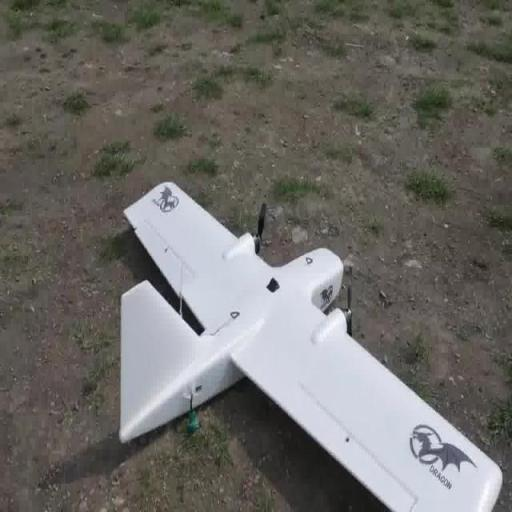uav: (116, 174, 505, 512)
